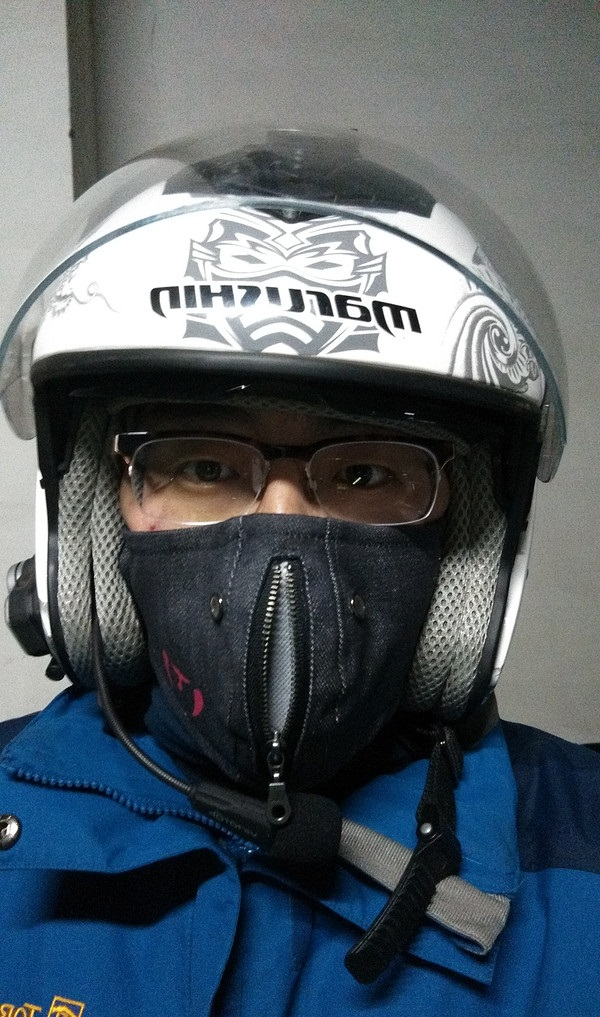face_mask: (118, 339, 433, 814)
